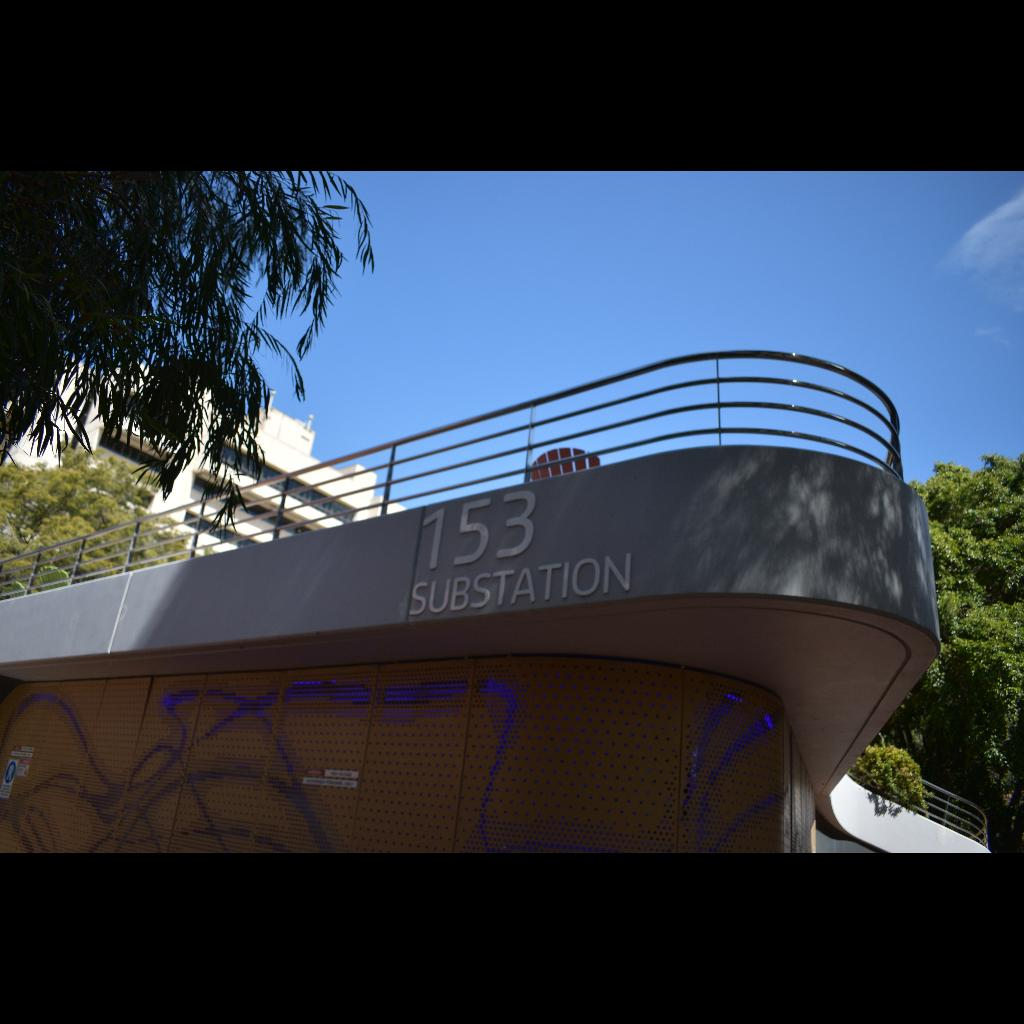BuildingCodes: (418, 486, 540, 578)
